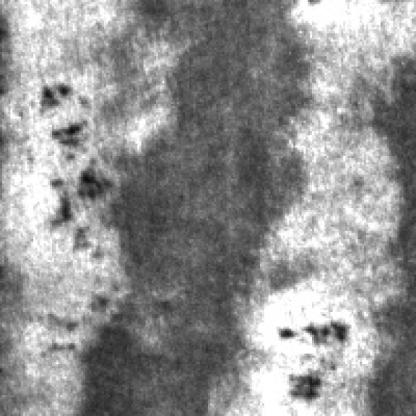inclusion: (50, 108, 114, 225)
patches: (104, 0, 302, 410), (87, 306, 162, 414), (366, 48, 416, 200), (366, 287, 416, 414)
